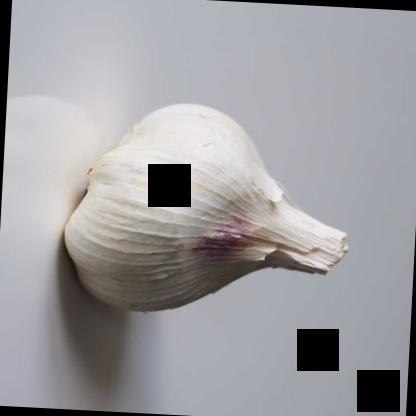garlic: (55, 93, 352, 322)
